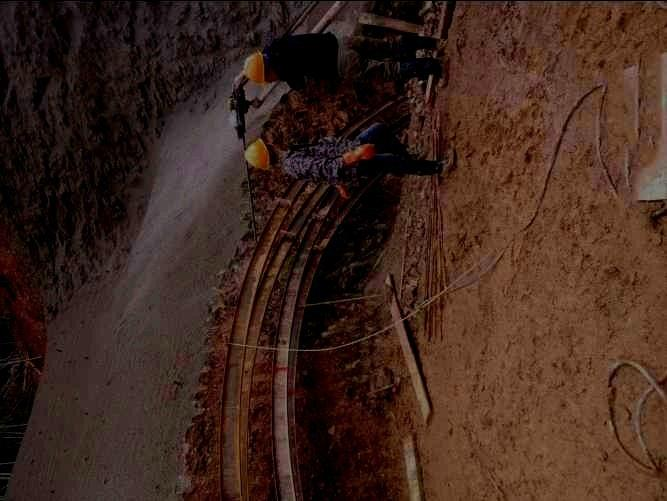helmet: (241, 49, 278, 84), (243, 138, 279, 171)
